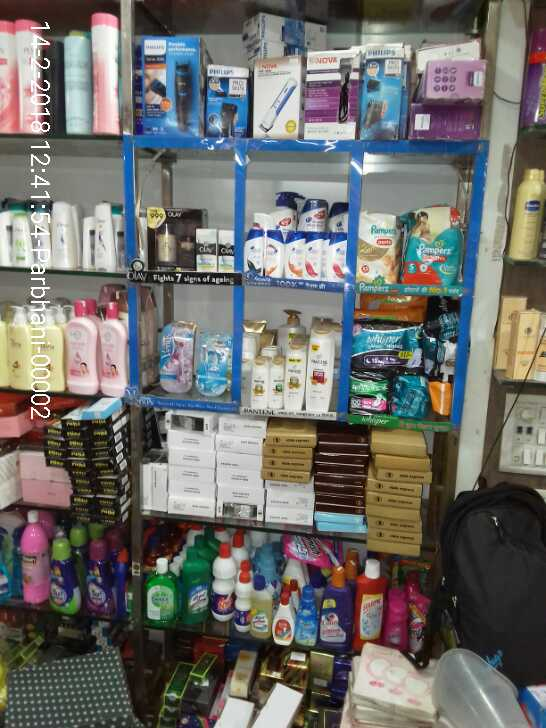venus: (160, 322, 195, 394), (197, 333, 232, 395)
